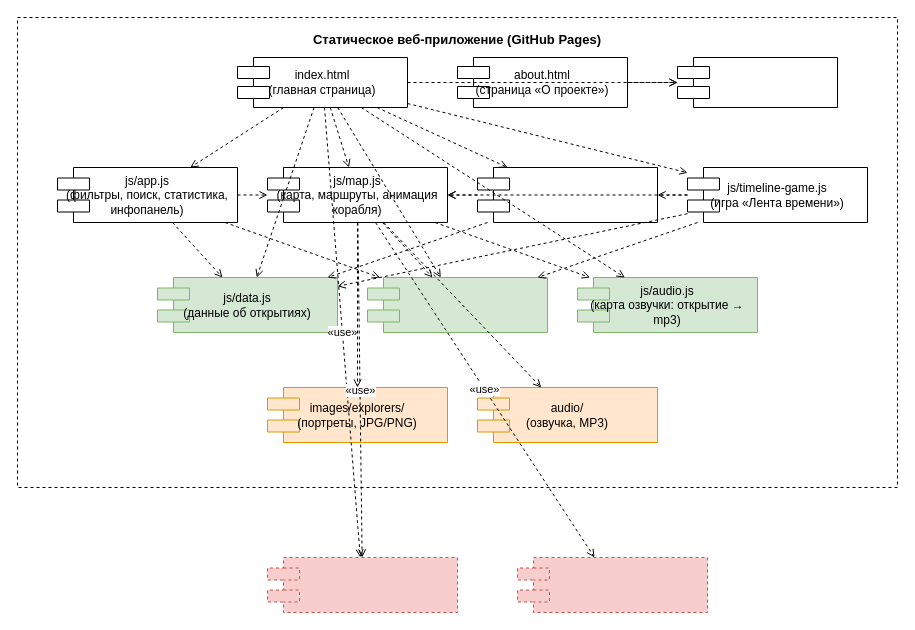
Image size: 915x630. Some labels were removed from this diagram. Here are the shapes that lost their labels. From the top down, the centre of each, then its label:
At pixel 757 82: "style.css (стили интерфейса)".
At pixel 567 194: "js/features.js (викторина, переключатель озвучки)".
At pixel 457 304: "js/explorers.js (данные исследователей)".
At pixel 362 584: "Leaflet.js (внешняя библиотека карты, CDN)".
At pixel 612 584: "OpenStreetMap (внешний сервис тайлов карты)".
